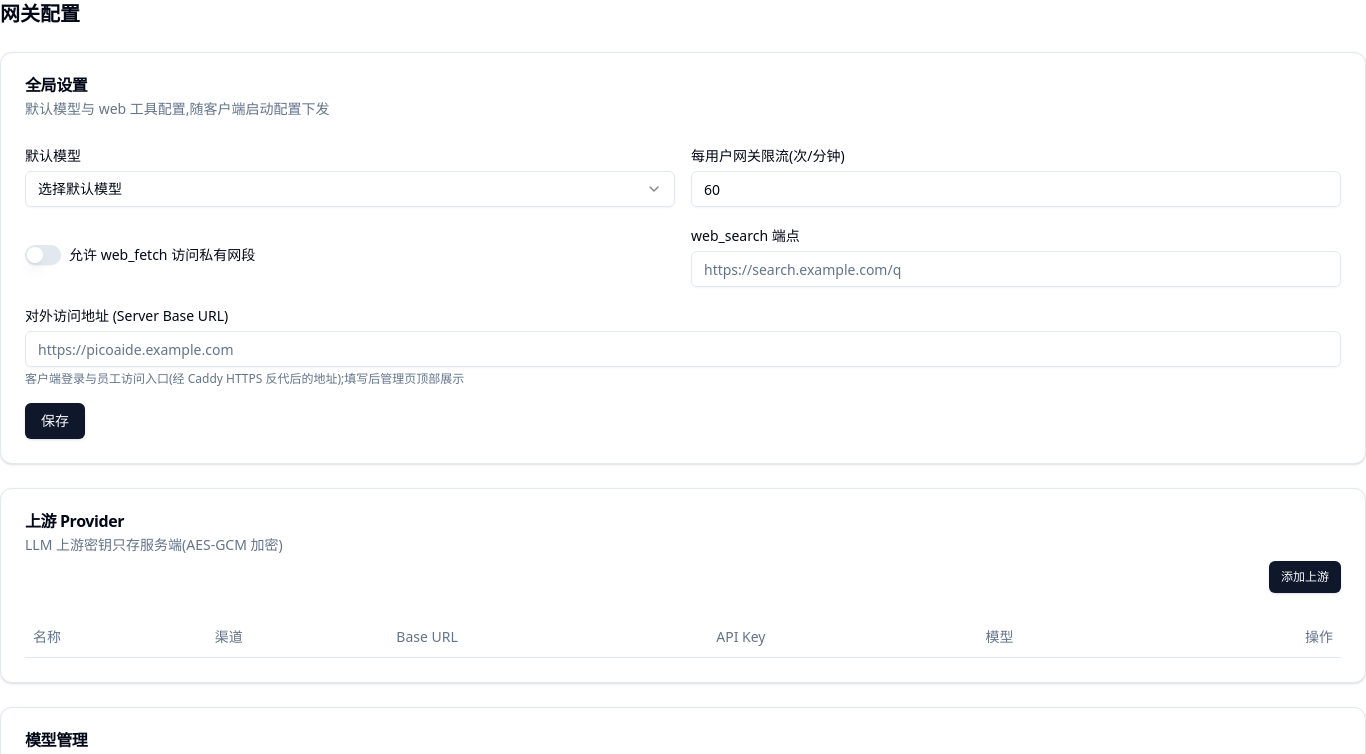
Gateway 网关配置页 › 提交含 sync.added 时显示"已上架 N 个模型"
The image size is (1366, 754).
Check: the text "全局设置" is shown, box [25, 74, 87, 96]
Click the button "添加上游" at {"x": 1305, "y": 577}, box [1269, 561, 1341, 593]
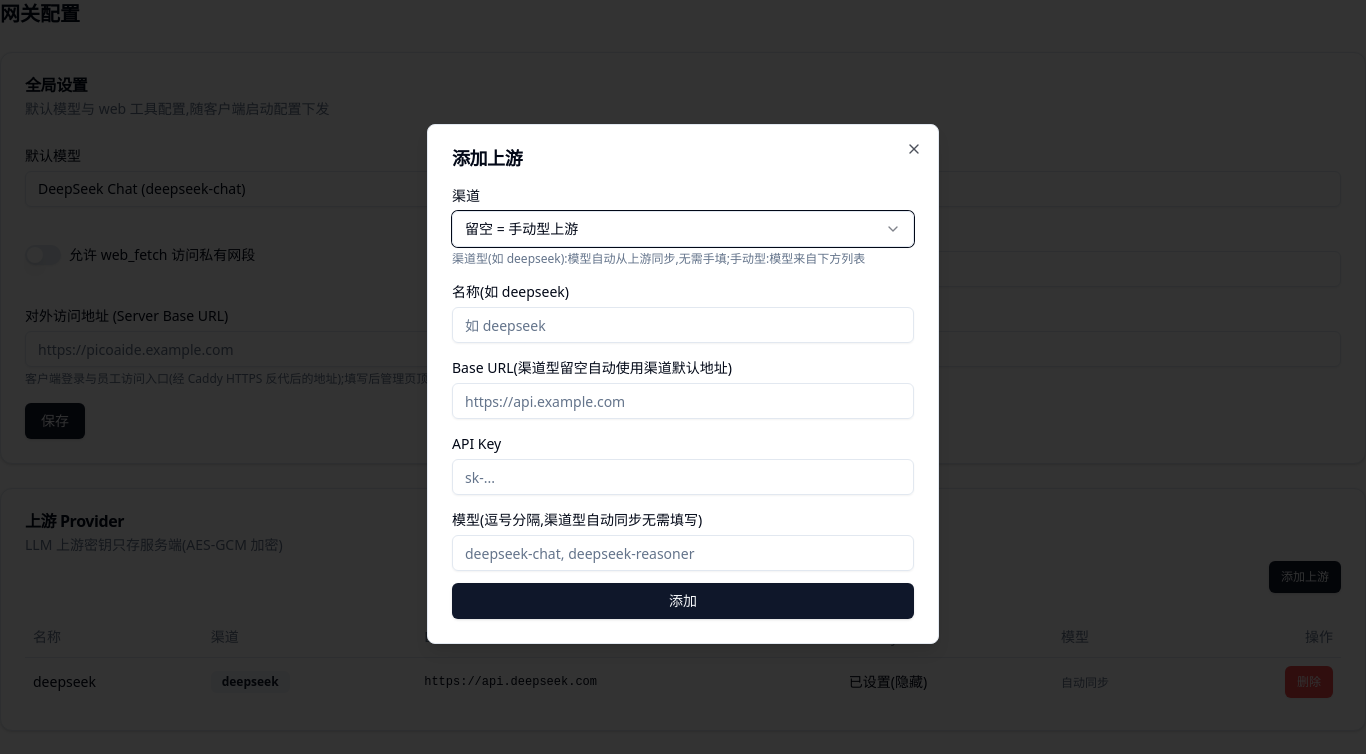
Type "deepseek2" into the field with placeholder "如 deepseek" at {"x": 683, "y": 325}, box [452, 307, 914, 343]
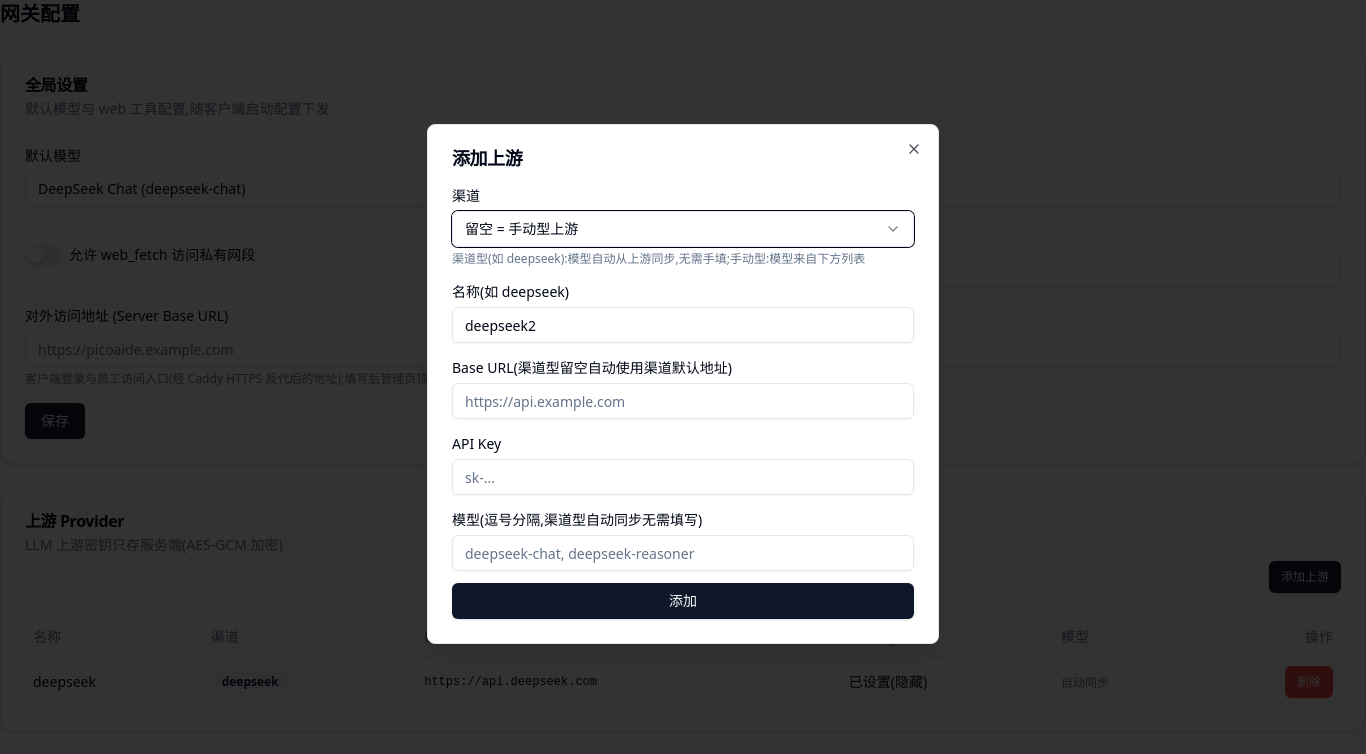
Type "sk-x" into the password field with placeholder "sk-..." at {"x": 683, "y": 477}, box [452, 459, 914, 495]
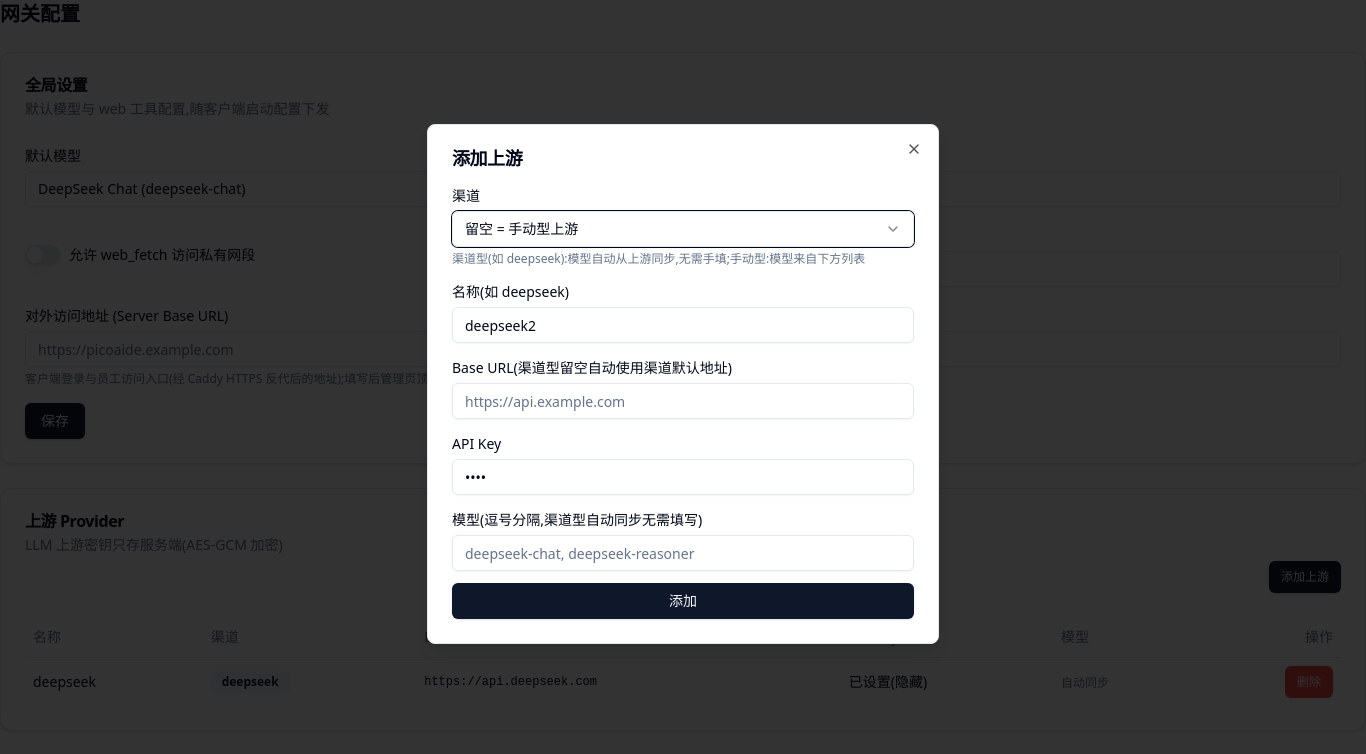
Click the button "添加" at {"x": 683, "y": 601}, box [452, 583, 914, 619]
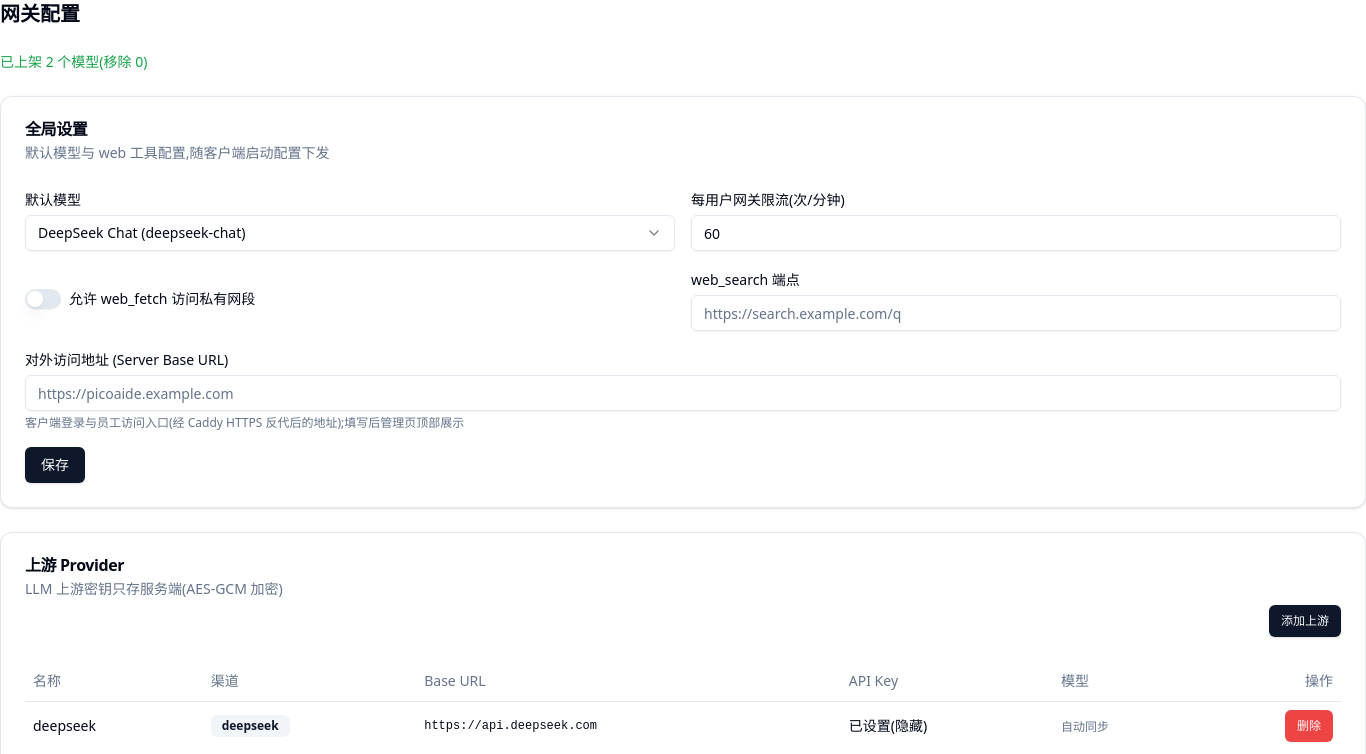
Check: the text "已上架 2 个模型(移除 0)" is shown, box [0, 52, 147, 71]
